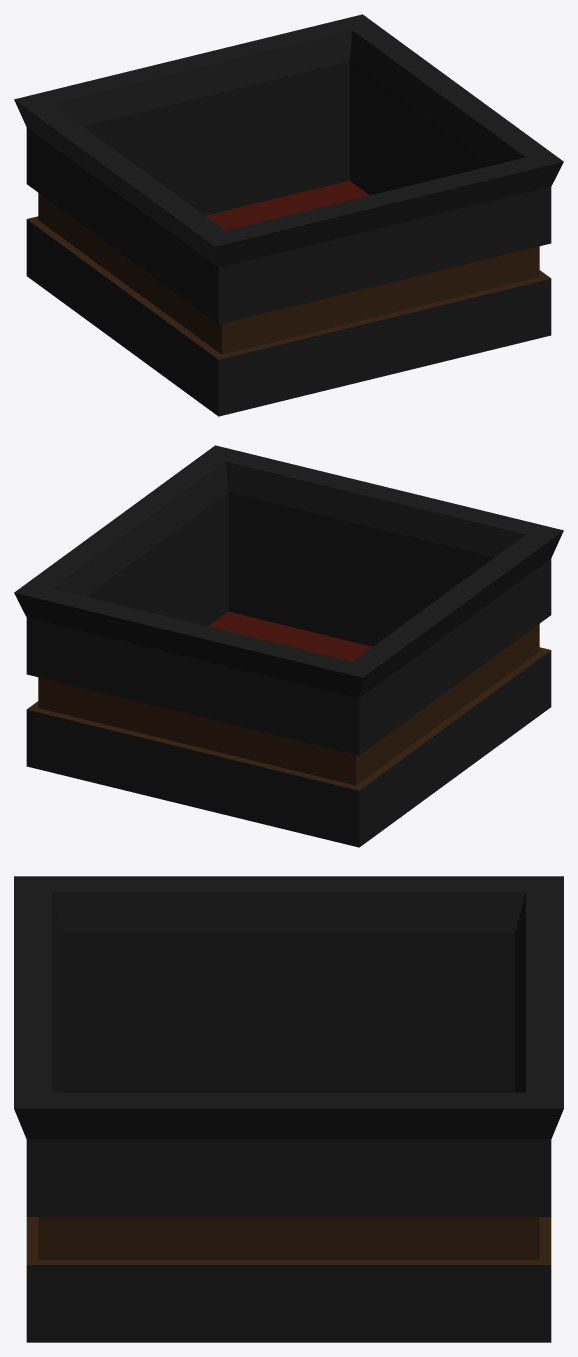
Rendered from crateCatcher.glb.
3 renders of one model, top to bottom at view 1: azimuth 30°, elevation 25°; view 2: azimuth 150°, elevation 25°; view 3: azimuth 270°, elevation 25°, orthographic. The views are drawn at different scales.
Parts seen in each view (by area): view 1: Cube; view 2: Cube; view 3: Cube.
Part boxes in pixels (<box>): Cube: <box>14,14,563,416</box>; Cube: <box>14,445,563,847</box>; Cube: <box>14,876,563,1342</box>.
Size of the model in its own units: 1.79 by 0.8583 by 1.79.
1 material, 1 textured.
